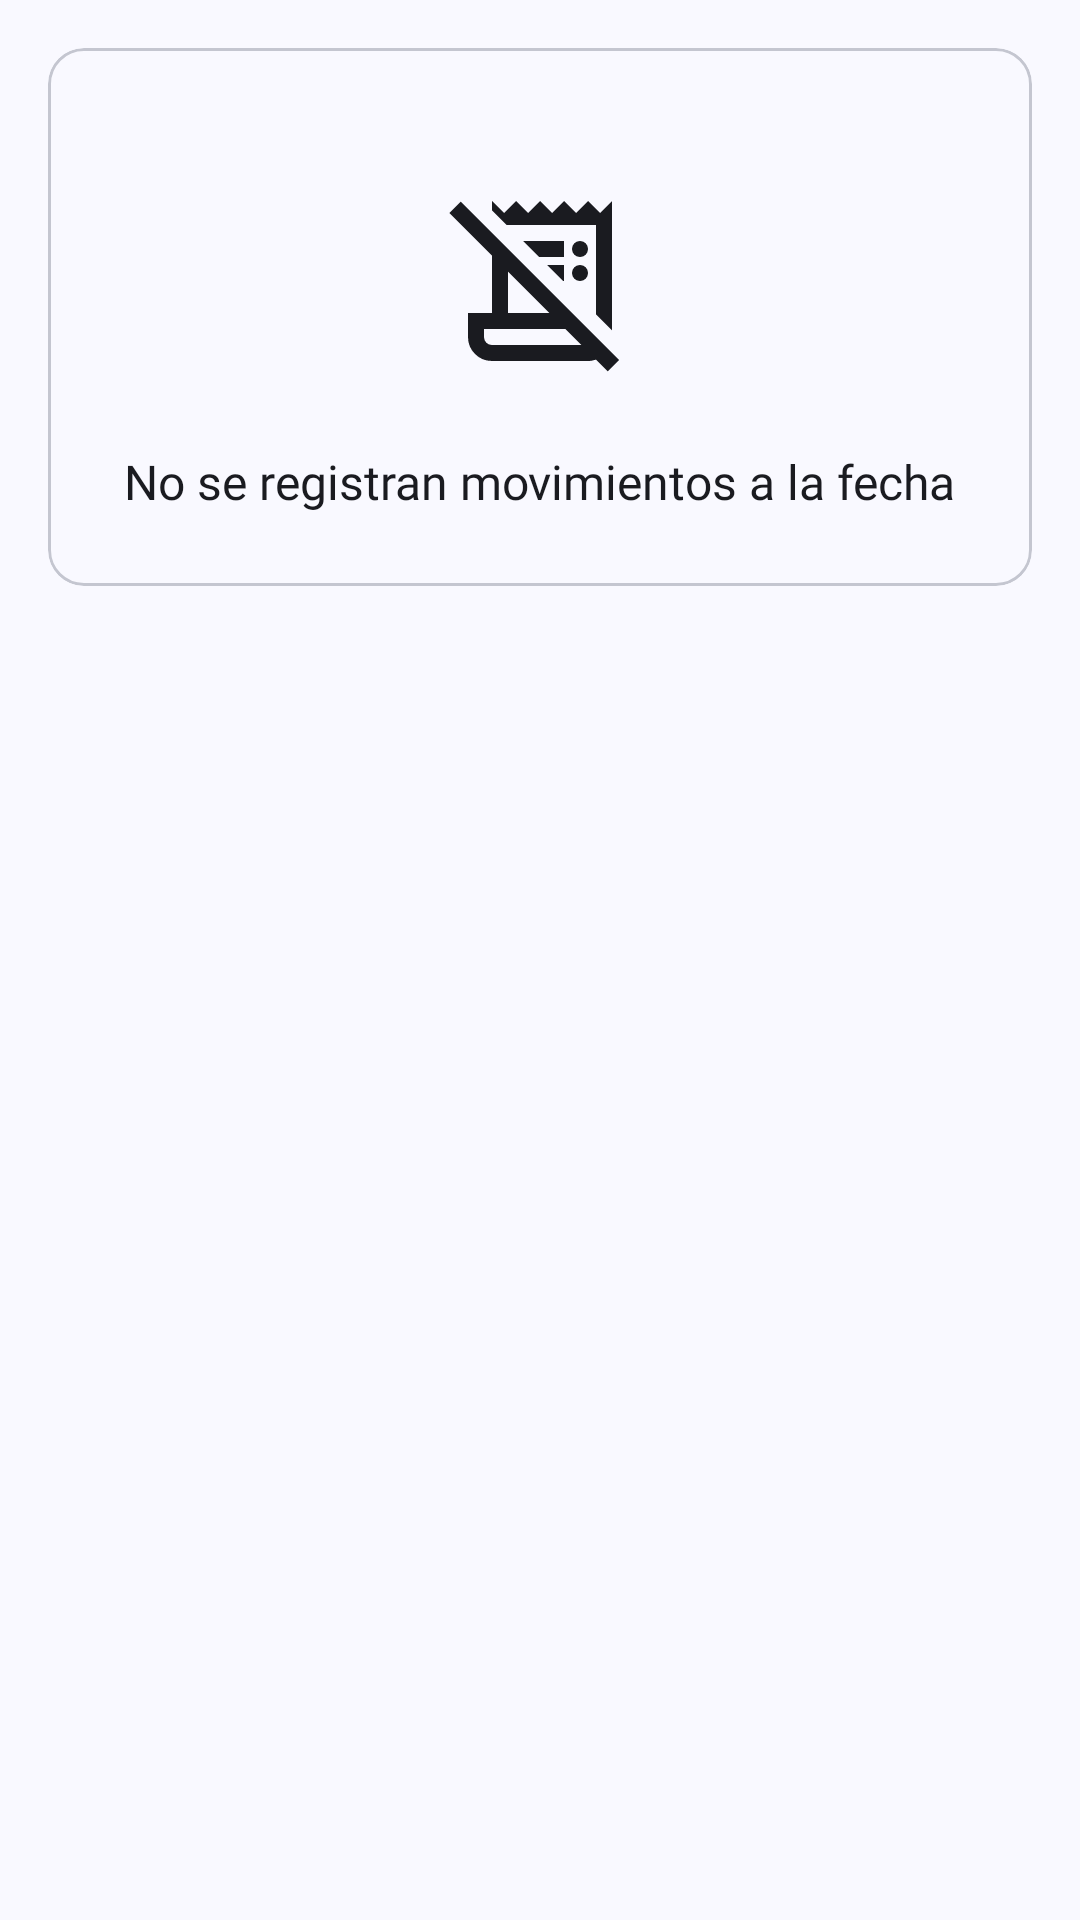

Screen size 1080x1920. Icon name, then its center in pixels as [x,y]:
receipt long off: [534,286]
